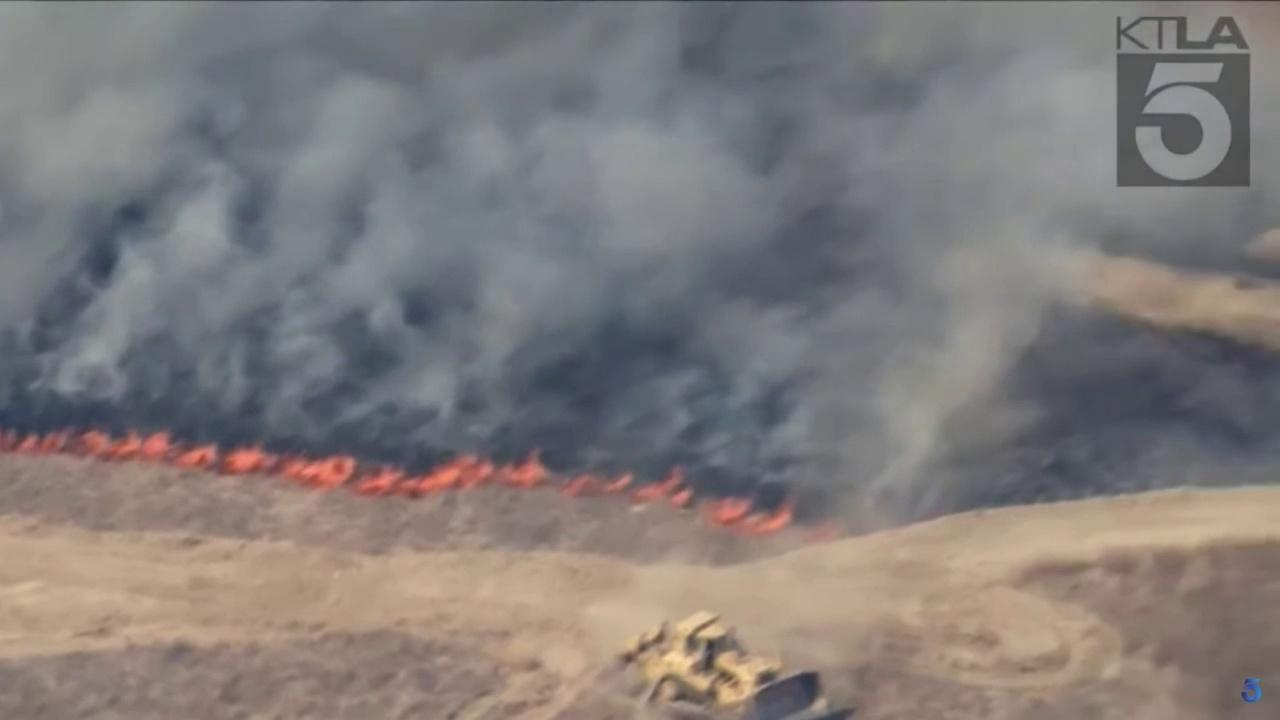fire: (0, 425, 551, 498), (563, 467, 797, 540)
smoke: (0, 0, 1280, 480)
